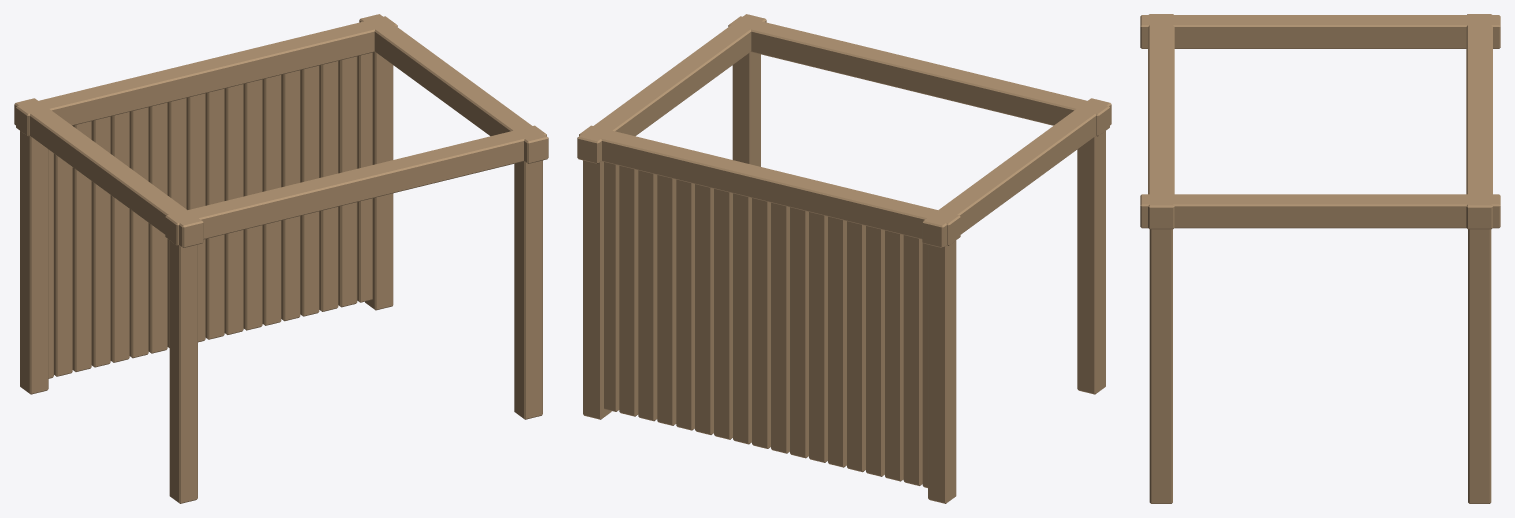
File: SM_ExampleHouse_Frame.fbx
3 renders of one model, left to right at view 1: azimuth 30°, elevation 25°; view 2: azimuth 150°, elevation 25°; view 3: azimuth 270°, elevation 25°, orthographic. The views are drawn at different scales.
Visible parts, largest first — view 1: SM_ExampleHouse_Frame; view 2: SM_ExampleHouse_Frame; view 3: SM_ExampleHouse_Frame.
Part boxes in pixels (x1,y1,x2,y2): SM_ExampleHouse_Frame: [14, 14, 548, 503]; SM_ExampleHouse_Frame: [577, 14, 1111, 503]; SM_ExampleHouse_Frame: [1140, 14, 1500, 503].
Size of the model in its own units: 4.3 by 3.4 by 3.12.
